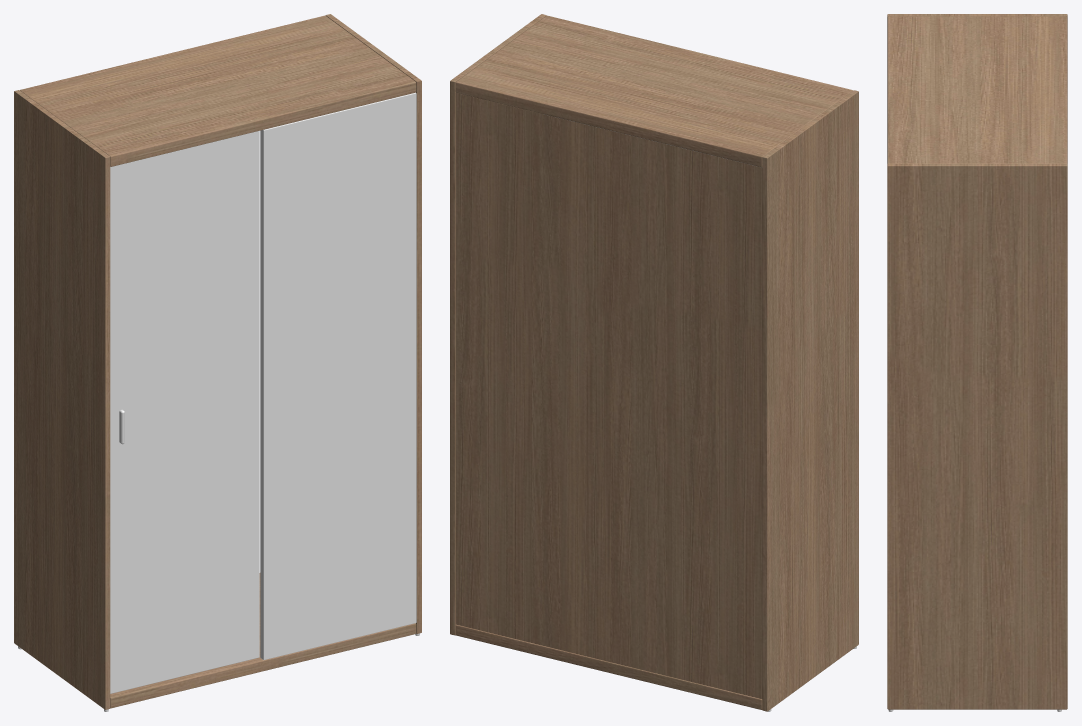
The model's file is wardrobe.glb.
3 views of the same model, side by side, from view 1: azimuth 30°, elevation 25°; view 2: azimuth 150°, elevation 25°; view 3: azimuth 270°, elevation 25° (orthographic).
Parts seen in each view (by area): view 1: Archisketch_363639_Frame:pCube9_2; view 2: Archisketch_363639_Frame:pCube9_2; view 3: Archisketch_363639_Frame:pCube9_2.
Boxes of the visible parts, x1,y1,x2,y2 form: Archisketch_363639_Frame:pCube9_2: [14, 14, 421, 711]; Archisketch_363639_Frame:pCube9_2: [450, 14, 858, 711]; Archisketch_363639_Frame:pCube9_2: [887, 14, 1067, 711].
Size of the model in its own units: 1200 by 2010 by 600.
Materials: 1 (1 with a texture image).
